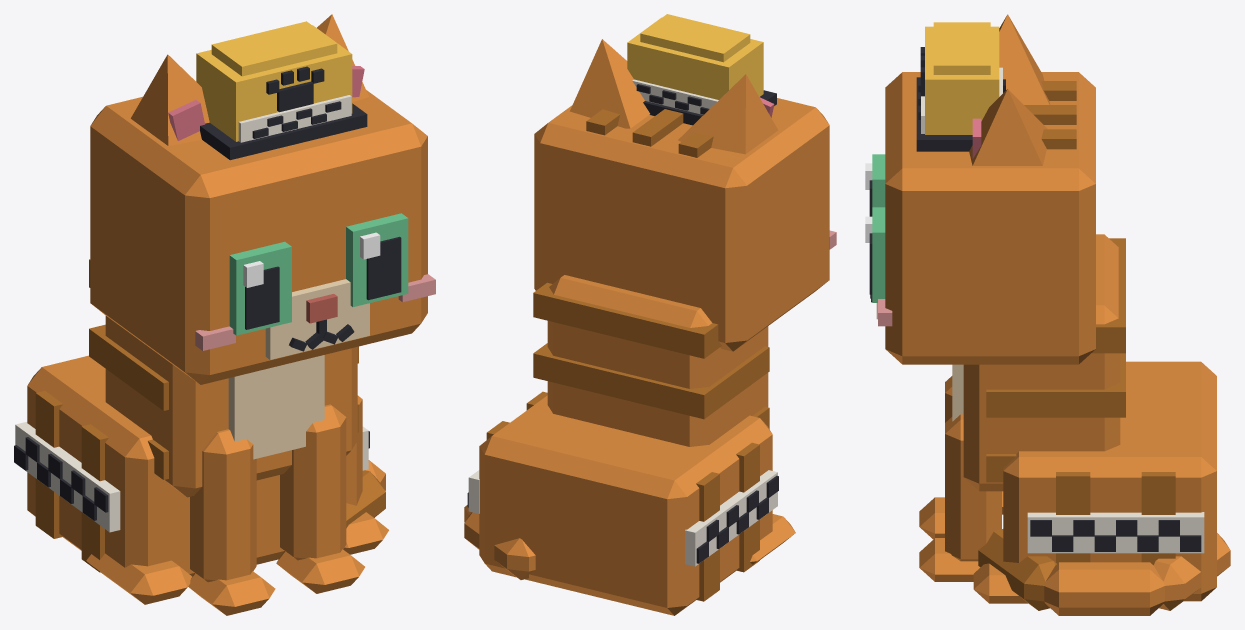
The model's file is CatCafe_Cat_Taxi_Sit.glb.
3 renders of one model, left to right at view 1: azimuth 30°, elevation 25°; view 2: azimuth 150°, elevation 25°; view 3: azimuth 270°, elevation 25°, orthographic. The views are drawn at different scales.
Visible parts, largest first — view 1: CatCafe_Cat_Taxi_Sit_Head, CatCafe_Cat_Taxi_Sit_Body, CatCafe_Cat_Taxi_Sit_Prop, CatCafe_Cat_Taxi_Sit_LegF2, CatCafe_Cat_Taxi_Sit_LegF1, CatCafe_Cat_Taxi_Sit_Eye2, CatCafe_Cat_Taxi_Sit_Eye1, CatCafe_Cat_Taxi_Sit_EarR, CatCafe_Cat_Taxi_Sit_Tail, CatCafe_Cat_Taxi_Sit_EarL; view 2: CatCafe_Cat_Taxi_Sit_Body, CatCafe_Cat_Taxi_Sit_Head, CatCafe_Cat_Taxi_Sit_Prop, CatCafe_Cat_Taxi_Sit_EarR, CatCafe_Cat_Taxi_Sit_EarL, CatCafe_Cat_Taxi_Sit_Tail; view 3: CatCafe_Cat_Taxi_Sit_Body, CatCafe_Cat_Taxi_Sit_Head, CatCafe_Cat_Taxi_Sit_Tail, CatCafe_Cat_Taxi_Sit_Prop, CatCafe_Cat_Taxi_Sit_LegF1, CatCafe_Cat_Taxi_Sit_EarL, CatCafe_Cat_Taxi_Sit_EarR, CatCafe_Cat_Taxi_Sit_Eye1, CatCafe_Cat_Taxi_Sit_LegF2, CatCafe_Cat_Taxi_Sit_Eye2.
Part boxes in pixels (<box>): CatCafe_Cat_Taxi_Sit_Head: <box>90,90,435,384</box>; CatCafe_Cat_Taxi_Sit_Body: <box>14,259,388,604</box>; CatCafe_Cat_Taxi_Sit_Prop: <box>196,21,367,160</box>; CatCafe_Cat_Taxi_Sit_LegF2: <box>188,429,275,615</box>; CatCafe_Cat_Taxi_Sit_LegF1: <box>276,404,364,593</box>; CatCafe_Cat_Taxi_Sit_Eye2: <box>229,241,291,335</box>; CatCafe_Cat_Taxi_Sit_Eye1: <box>346,213,408,306</box>; CatCafe_Cat_Taxi_Sit_EarR: <box>131,54,209,145</box>; CatCafe_Cat_Taxi_Sit_Tail: <box>346,460,385,528</box>; CatCafe_Cat_Taxi_Sit_EarL: <box>317,14,368,101</box>; CatCafe_Cat_Taxi_Sit_Body: <box>467,275,795,615</box>; CatCafe_Cat_Taxi_Sit_Head: <box>534,98,836,351</box>; CatCafe_Cat_Taxi_Sit_Prop: <box>627,14,776,125</box>; CatCafe_Cat_Taxi_Sit_EarR: <box>678,74,778,154</box>; CatCafe_Cat_Taxi_Sit_EarL: <box>570,39,649,128</box>; CatCafe_Cat_Taxi_Sit_Tail: <box>464,505,535,579</box>; CatCafe_Cat_Taxi_Sit_Body: <box>952,234,1216,603</box>; CatCafe_Cat_Taxi_Sit_Head: <box>870,72,1095,364</box>; CatCafe_Cat_Taxi_Sit_Tail: <box>978,529,1230,615</box>; CatCafe_Cat_Taxi_Sit_Prop: <box>916,22,1005,151</box>; CatCafe_Cat_Taxi_Sit_LegF1: <box>919,414,1001,581</box>; CatCafe_Cat_Taxi_Sit_EarL: <box>969,89,1047,165</box>; CatCafe_Cat_Taxi_Sit_EarR: <box>999,14,1050,104</box>; CatCafe_Cat_Taxi_Sit_Eye1: <box>865,207,885,302</box>; CatCafe_Cat_Taxi_Sit_LegF2: <box>919,376,952,539</box>; CatCafe_Cat_Taxi_Sit_Eye2: <box>865,154,885,216</box>.
Size of the model in its own units: 1.06 by 1.88 by 1.22.
Materials: 1 (1 with a texture image).
